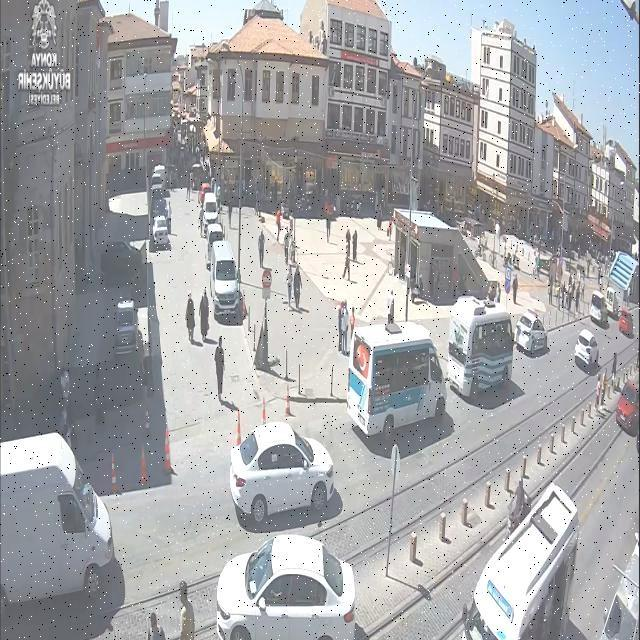Bus: (466, 483, 580, 638)
Car: (215, 536, 358, 638), (228, 424, 336, 522), (594, 527, 638, 639), (516, 310, 548, 354), (616, 379, 640, 434), (115, 300, 138, 356), (574, 329, 600, 368), (205, 223, 225, 260), (202, 193, 220, 228), (590, 291, 608, 325), (604, 286, 622, 319), (152, 216, 170, 247), (152, 196, 170, 222), (618, 308, 634, 336), (152, 165, 166, 186), (198, 182, 211, 204), (151, 182, 163, 196), (158, 188, 171, 200)
Truck: (2, 434, 118, 611), (345, 320, 443, 438), (447, 296, 513, 396)
Van: (210, 240, 242, 319)
